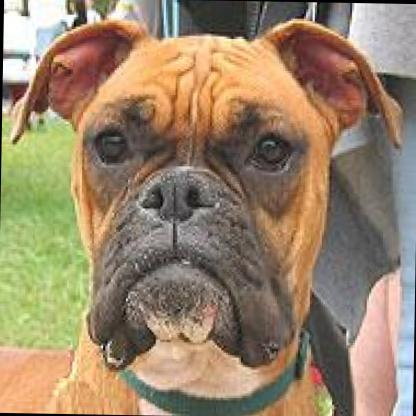boxer: (1, 11, 406, 415)
